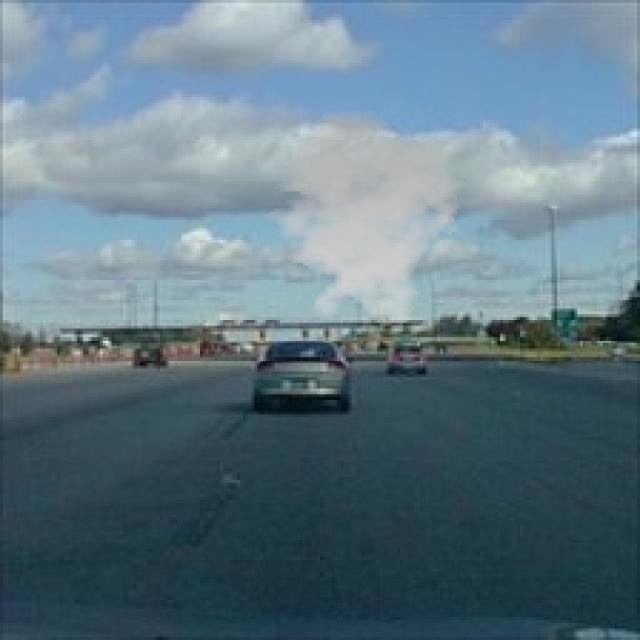smoke: (254, 109, 472, 328)
